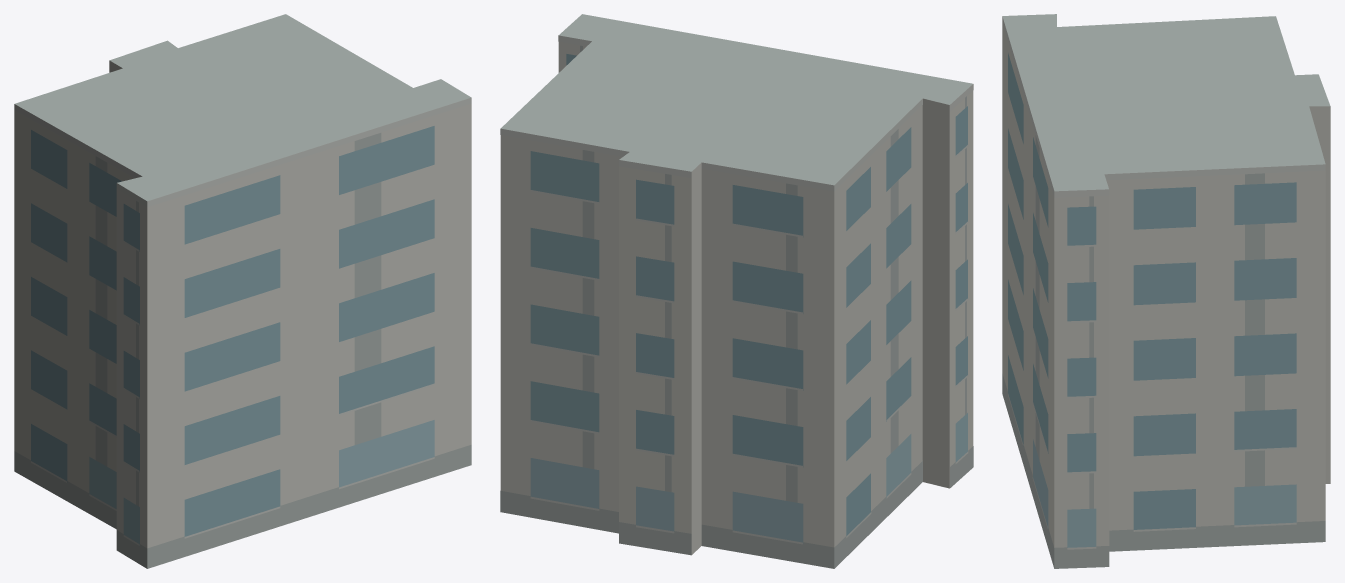
File: survey-upis-32570481.glb
3 renders of one model, left to right at view 1: azimuth 30°, elevation 25°; view 2: azimuth 150°, elevation 25°; view 3: azimuth 270°, elevation 25°, orthographic. The views are drawn at different scales.
Visible parts, largest first — view 1: survey-upis-32570481.tmp; view 2: survey-upis-32570481.tmp; view 3: survey-upis-32570481.tmp.
Boxes of the visible parts, bbox=[...] form: survey-upis-32570481.tmp: bbox=[14, 14, 471, 568]; survey-upis-32570481.tmp: bbox=[500, 14, 973, 568]; survey-upis-32570481.tmp: bbox=[1002, 14, 1330, 568].
Size of the model in its own units: 14.71 by 14.6 by 11.51.
